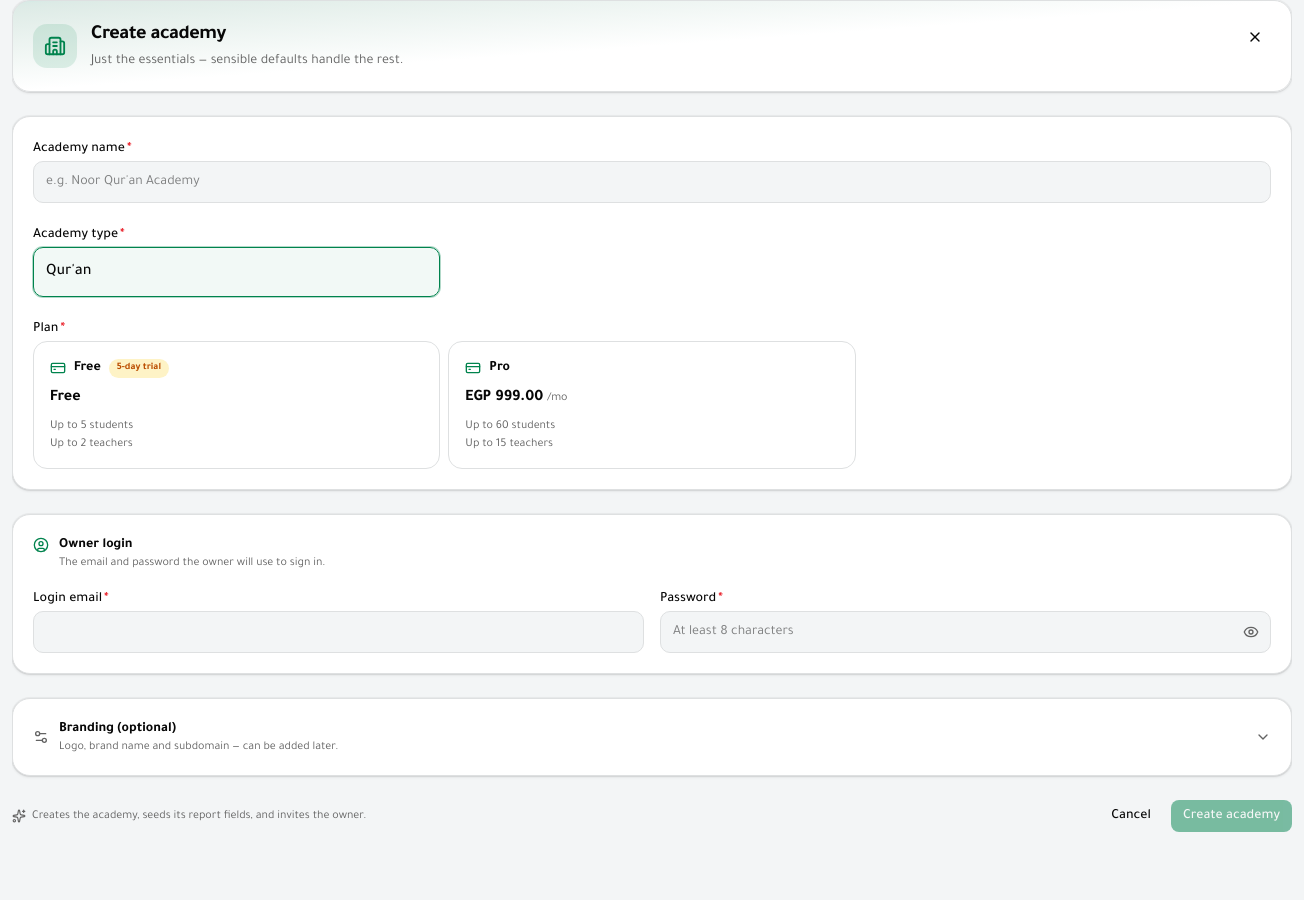
it: AcademyWizard (single-screen quick create) › surfaces a server validation error via a toast
Type "X" into the field labelled "Academy name" at (652, 182), box [33,161,1271,203]
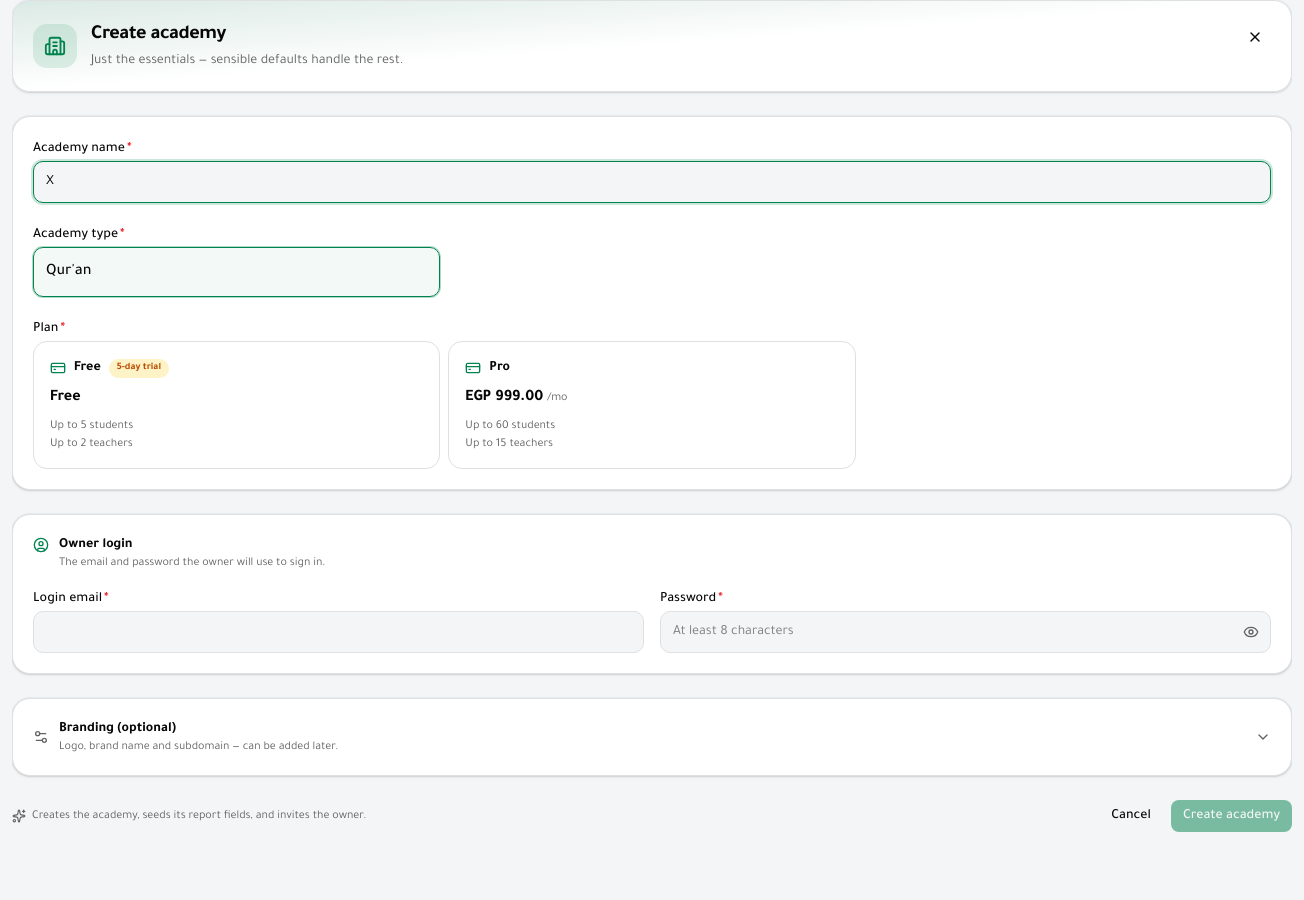
Click the button with test id "plan-PRO" at (504, 398), box [448,341,856,469]
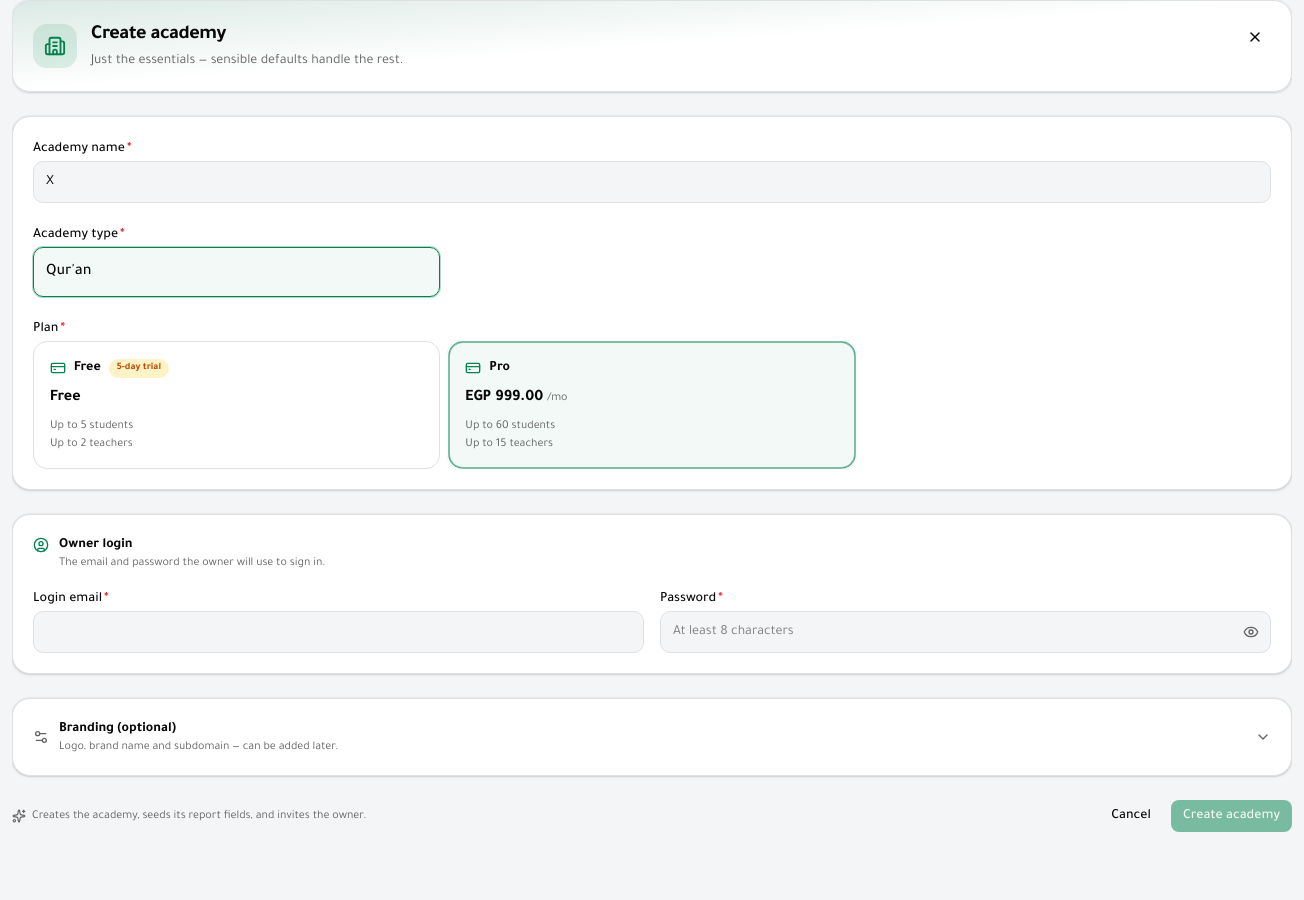
Type "owner@x.test" into the field labelled "Login email" at (338, 632), box [33,611,644,653]
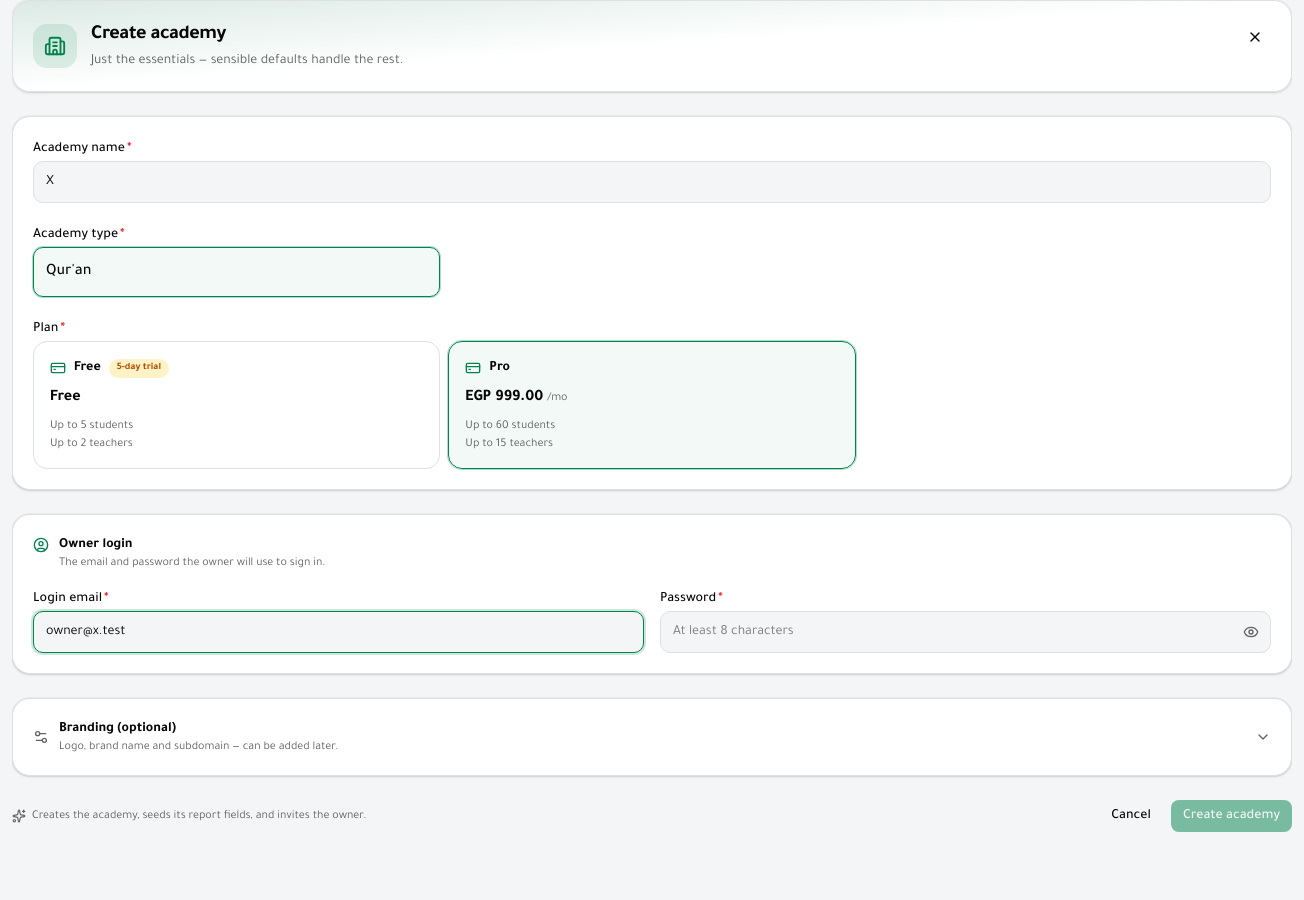
Type "secret123" into the password field labelled "Password" at (966, 632), box [660,611,1271,653]
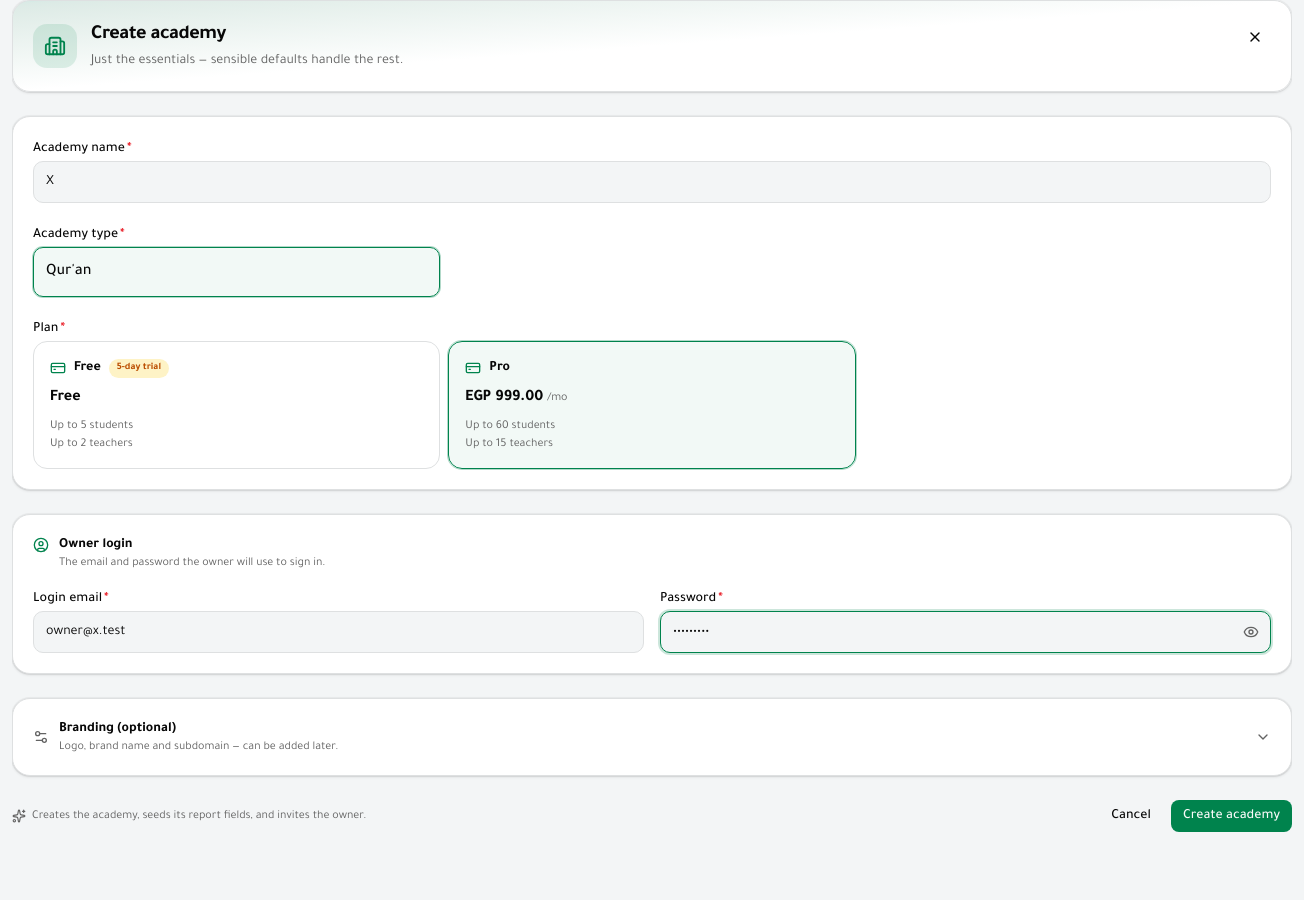
Click the button "Create academy" at (1231, 816), box [1171,800,1292,832]
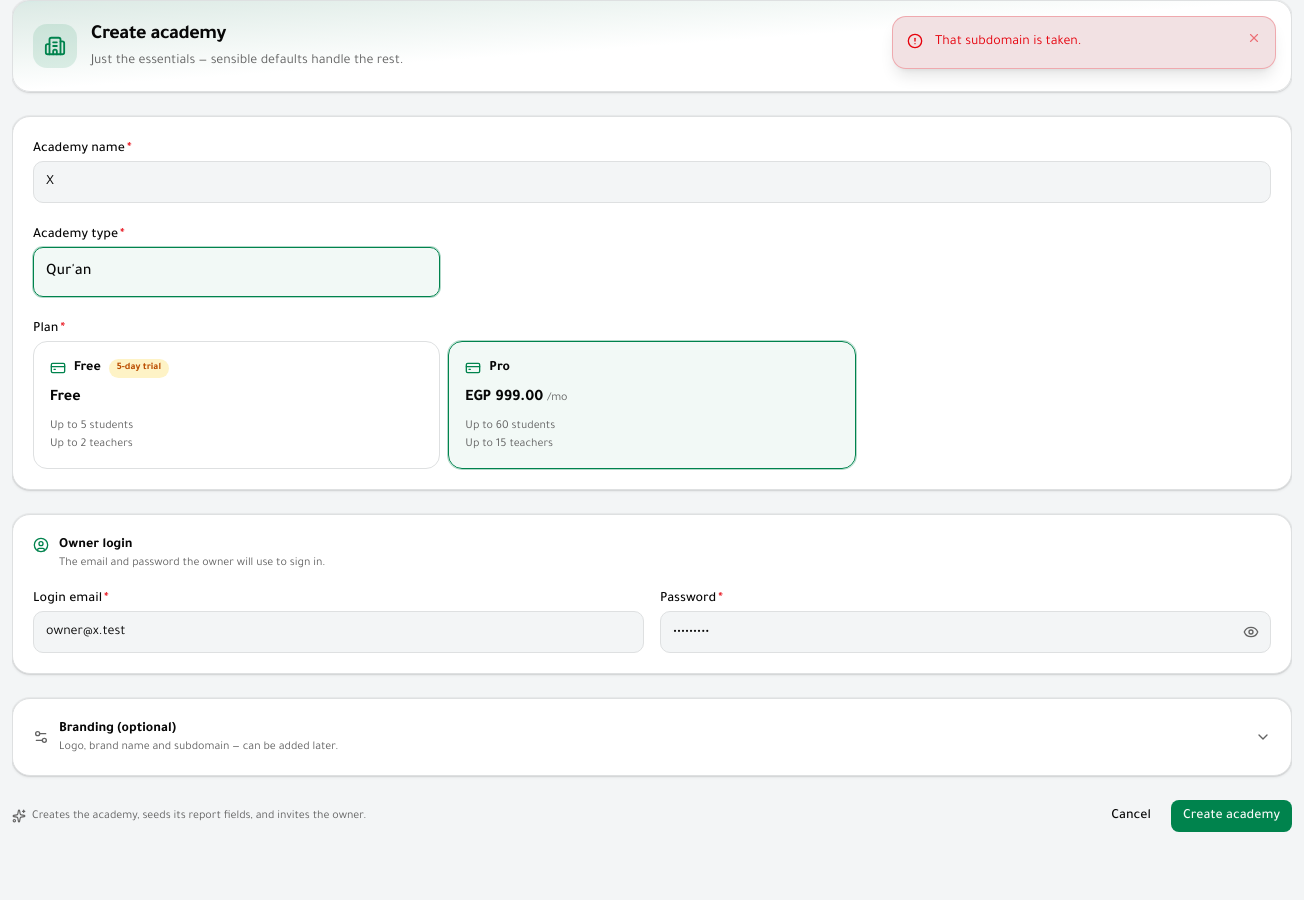
Check: the message reads "That subdomain is taken.", box [935,35,1082,49]
